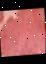plaque psoriasis: (0, 7, 46, 56), (0, 10, 3, 23)
